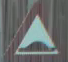Speed Breaker ahead: (8, 5, 58, 56)
